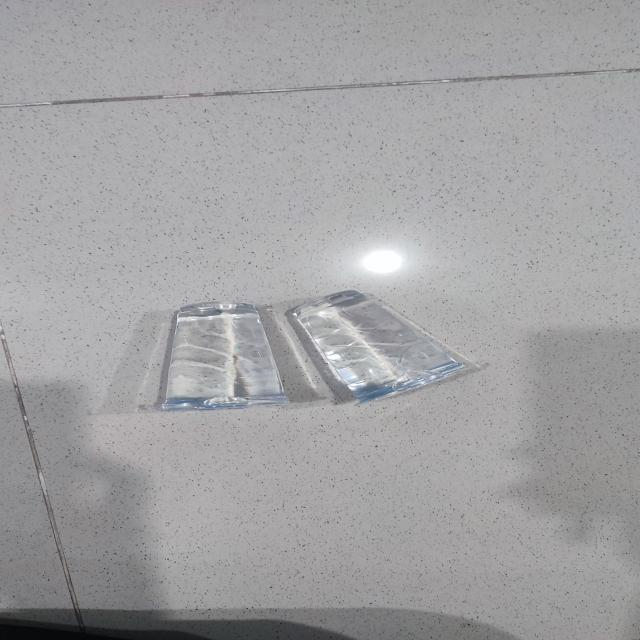air gelas: (281, 290, 485, 407), (145, 279, 309, 422)
